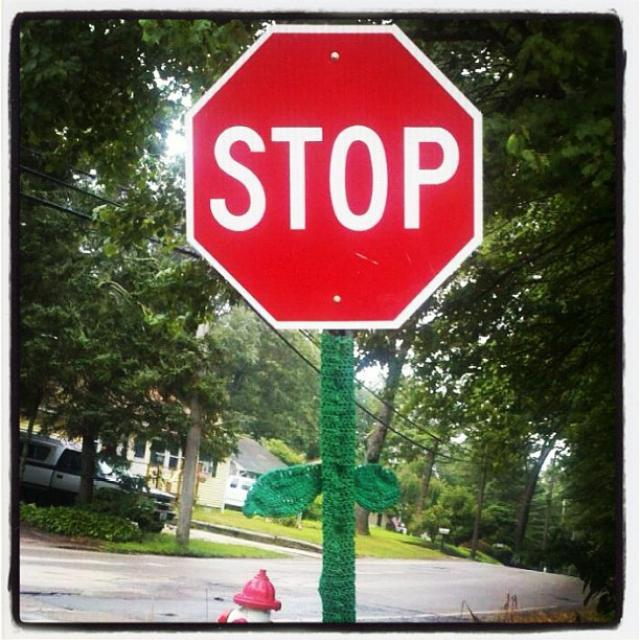fire_hydrant: (212, 566, 280, 624)
